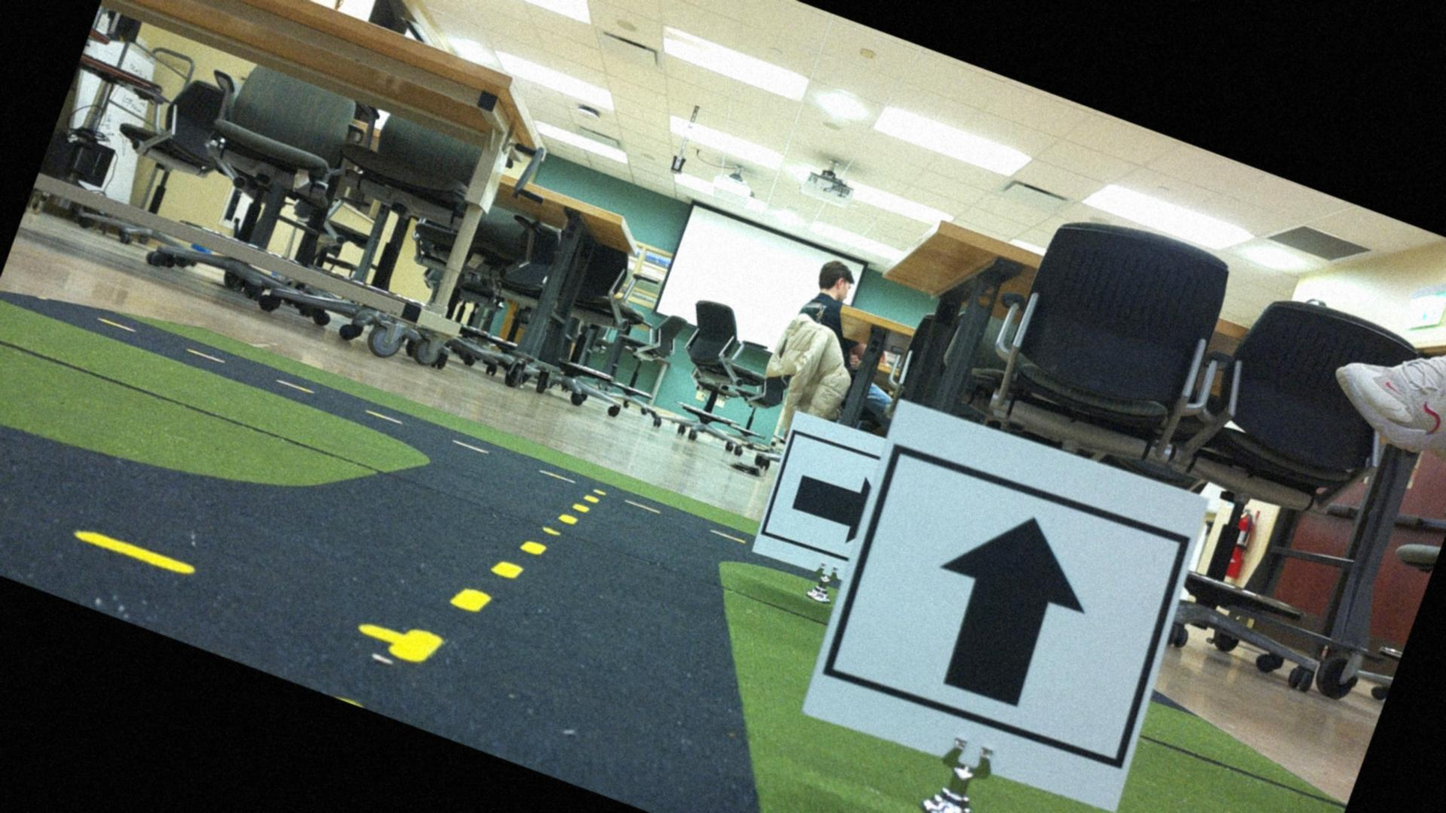gostraight: (799, 408, 1200, 812)
yellowline: (389, 440, 608, 711)
